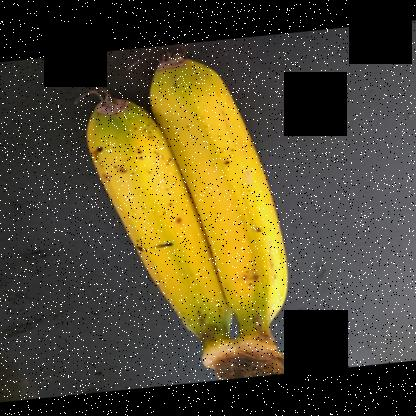freshripe: (152, 49, 288, 365)
ripe: (69, 96, 228, 358)
